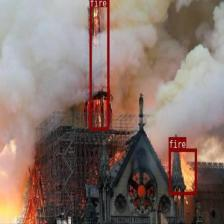fire: (89, 0, 108, 129), (168, 149, 196, 194)
